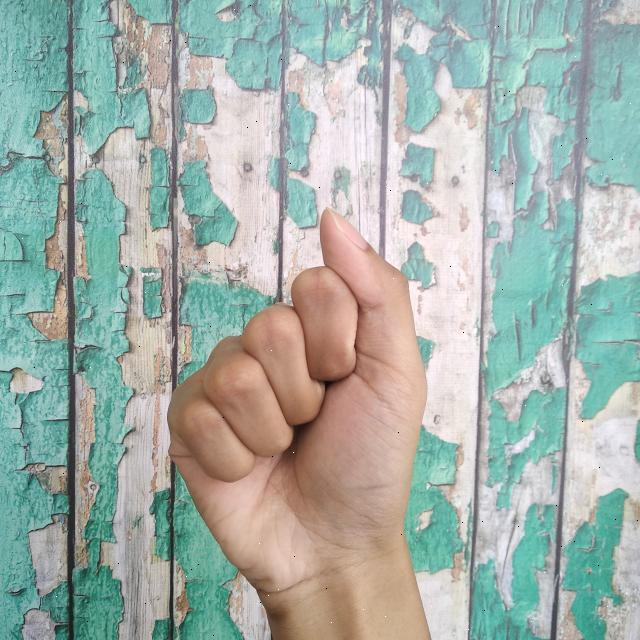A: (158, 201, 435, 640)
